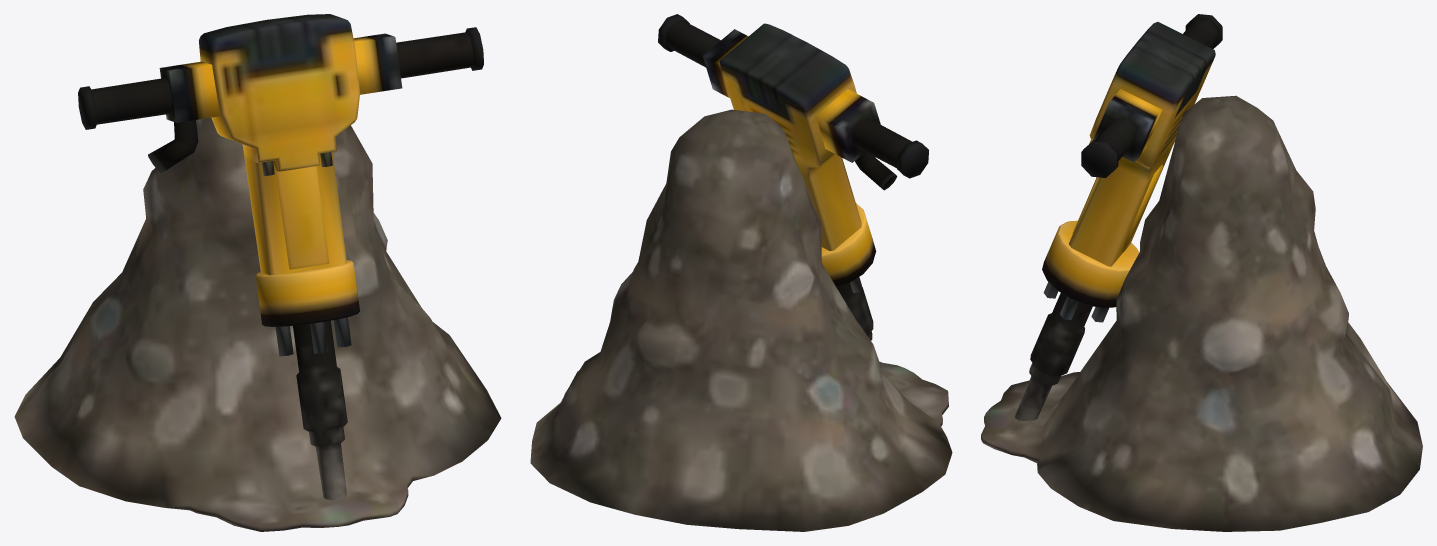
The picture shows the model from 3 angles, left to right: view 1: azimuth 30°, elevation 25°; view 2: azimuth 150°, elevation 25°; view 3: azimuth 270°, elevation 25°; orthographic projection. The views are drawn at different scales.
Size of the model in its own units: 9.35 by 9.4 by 9.6.
Materials: 1 (1 with a texture image).
